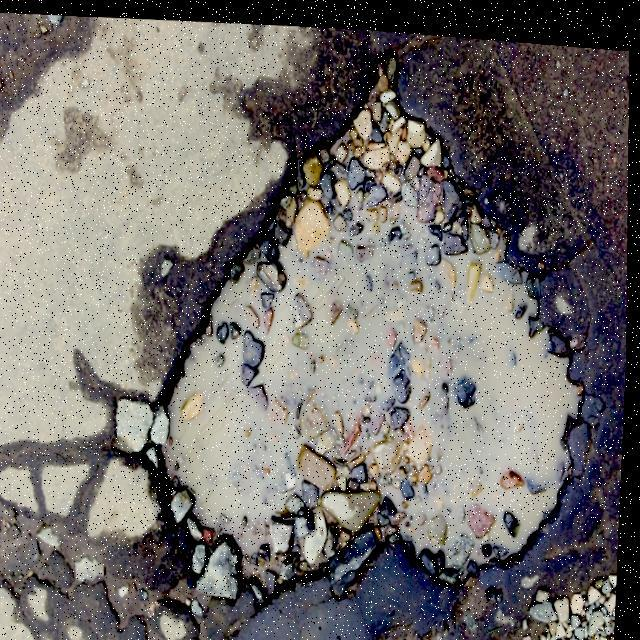pothole: (136, 47, 612, 624)
